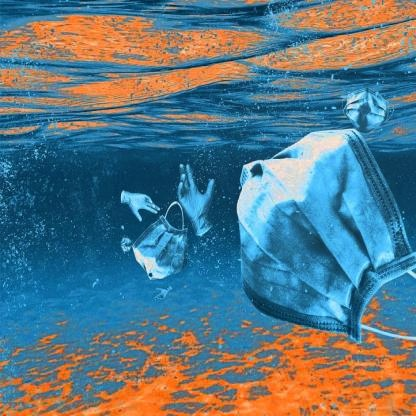Mask: (214, 123, 416, 373), (120, 204, 202, 295), (328, 69, 412, 140)
